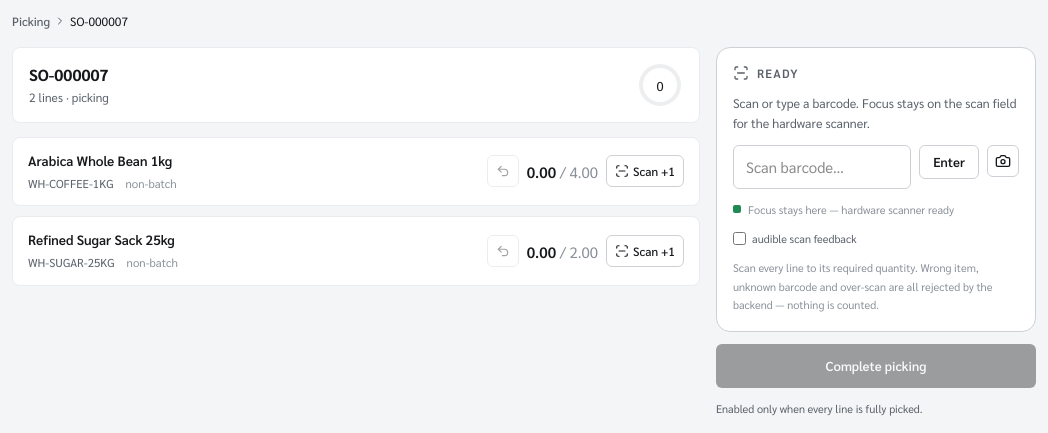
Test: FulfillmentConsole — correct scan › counts a good scan, updates progress and never blocks the Complete gate early
The width and height of the screenshot is (1048, 433).
Type "885000000009" into the field named "Barcode scan input" at [822, 167], box [733,145,911,189]
Then press Enter
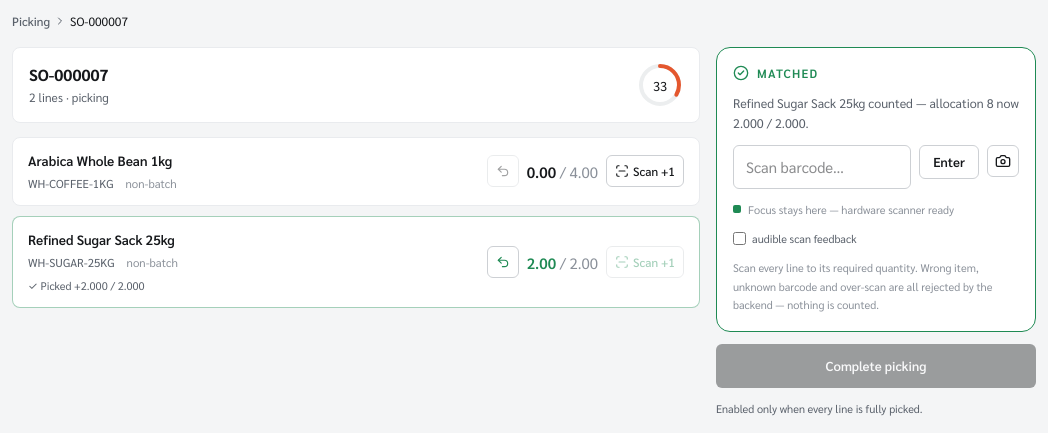
Expected: the button "Complete picking" is disabled, [716,344,1036,388]
Expected: the text "Matched" is shown, [733,65,818,81]
